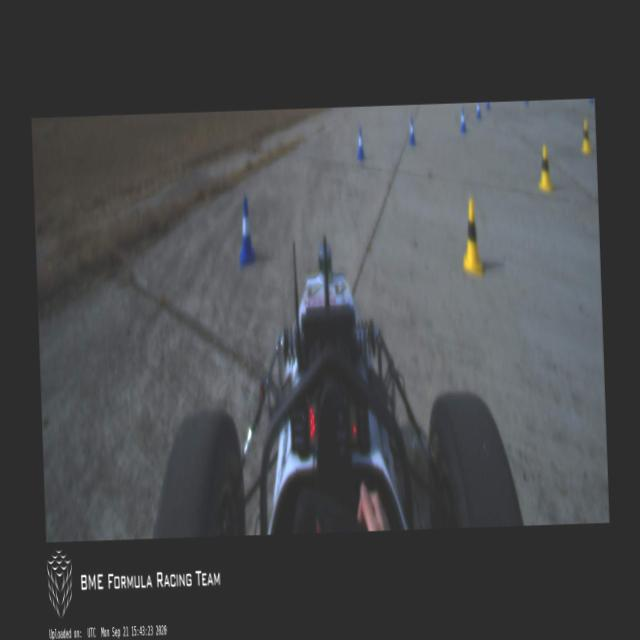blue_cone: (237, 195, 256, 267), (356, 128, 364, 162), (408, 116, 416, 148), (459, 108, 466, 134), (475, 102, 481, 121)
yellow_cone: (459, 197, 484, 278), (537, 142, 554, 192), (580, 118, 592, 155)
